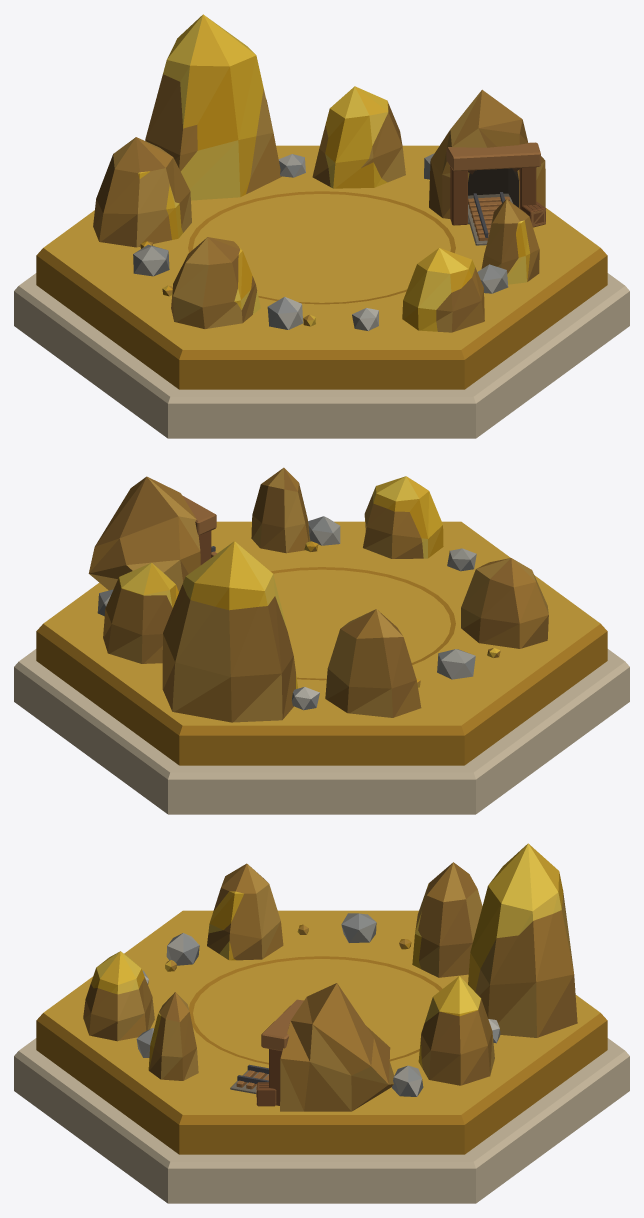
File: hex_gold.glb
The picture shows the model from 3 angles, top to bottom: view 1: azimuth 30°, elevation 25°; view 2: azimuth 150°, elevation 25°; view 3: azimuth 270°, elevation 25°; orthographic projection.
Visible parts, largest first — view 1: hex_gold; view 2: hex_gold; view 3: hex_gold.
Boxes of the visible parts, x1=… form: hex_gold: x1=14, y1=14, x2=629, y2=438; hex_gold: x1=14, y1=467, x2=629, y2=814; hex_gold: x1=14, y1=843, x2=629, y2=1203.
Bounding box in the file's own units: 1.73 × 0.86 × 2.
